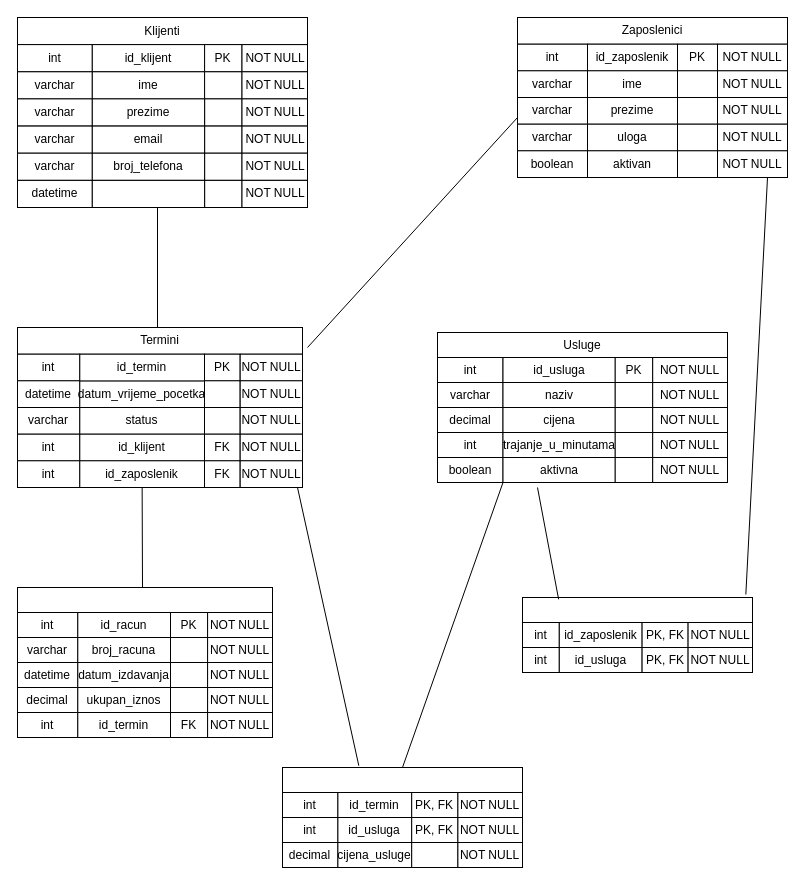
The diagram is 805 pixels wide and 885 high, and some of its shapes have lost their labels. The shapes that lost their labels are listed below. From the top down, each one's box as (x1, y1, x2, y2) in pixels, then its label:
(91, 179, 205, 208): datum_registracije
(16, 586, 272, 612): Računi
(522, 596, 752, 622): KompetencijeZaposlenika
(282, 766, 522, 792): StavkeTermina
